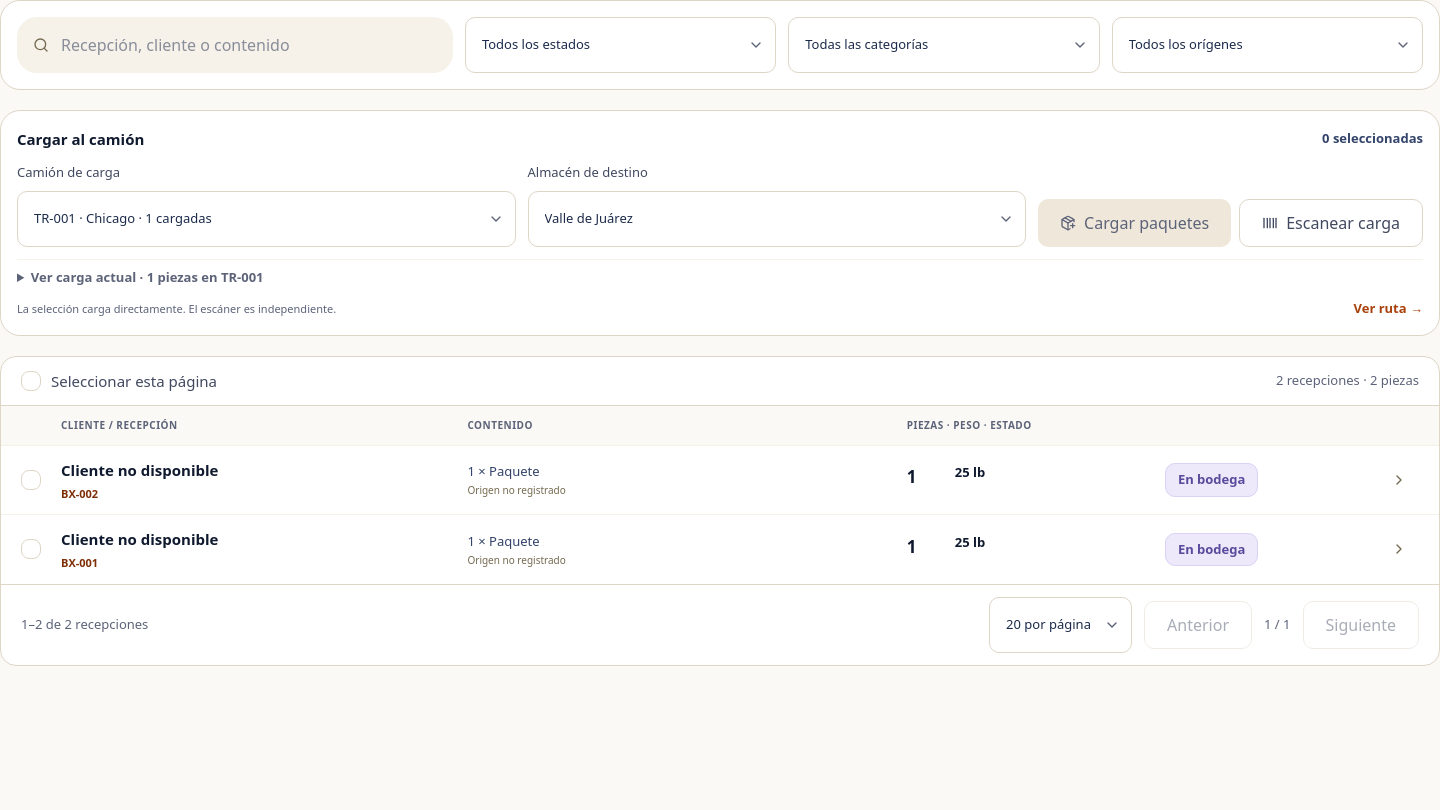
Test: preserves selection on a failed direct load
Click the checkbox named "Seleccionar BX-001" at (31, 549), box [21, 539, 41, 559]
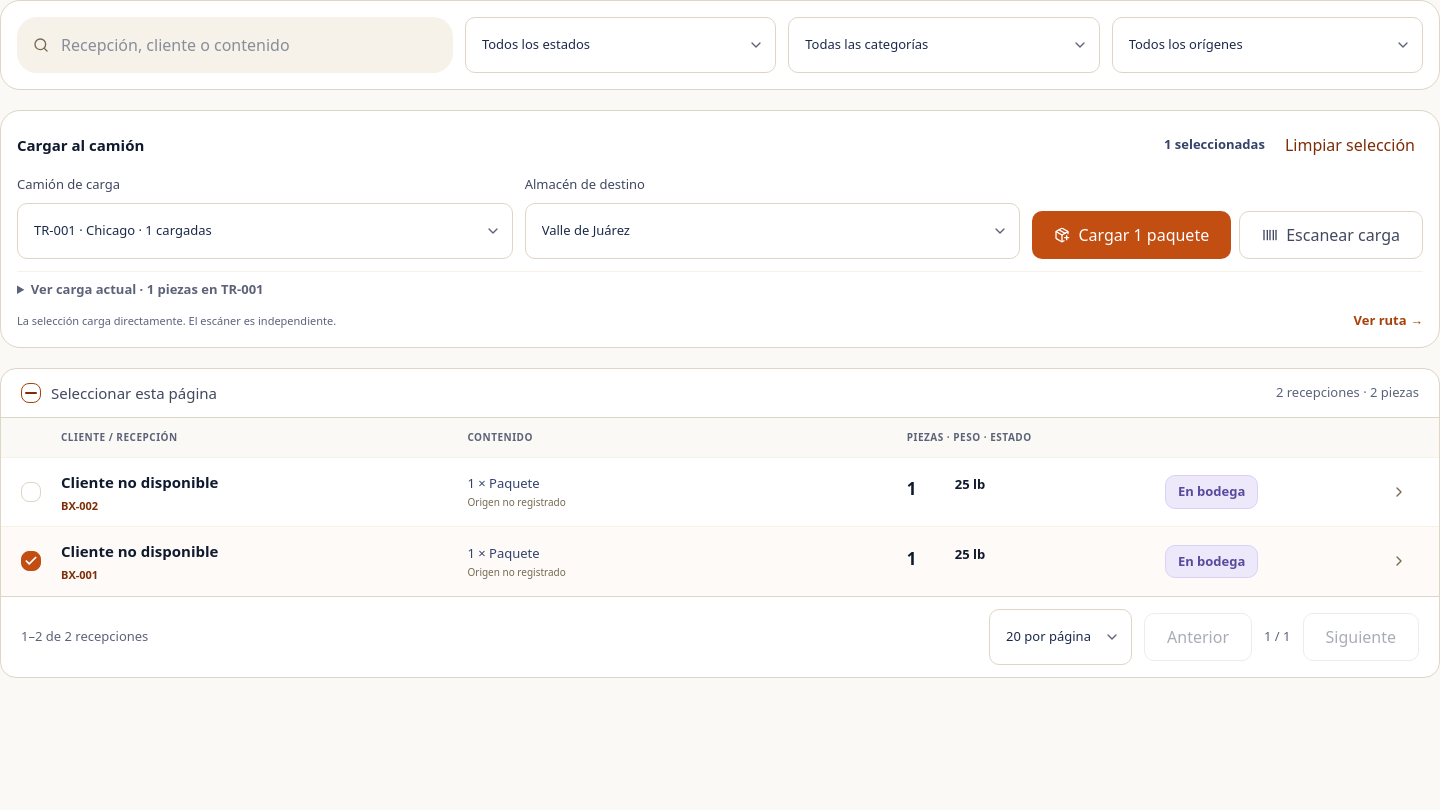
Click the button "Cargar 1 paquete" at (1132, 234), box [1032, 210, 1231, 258]
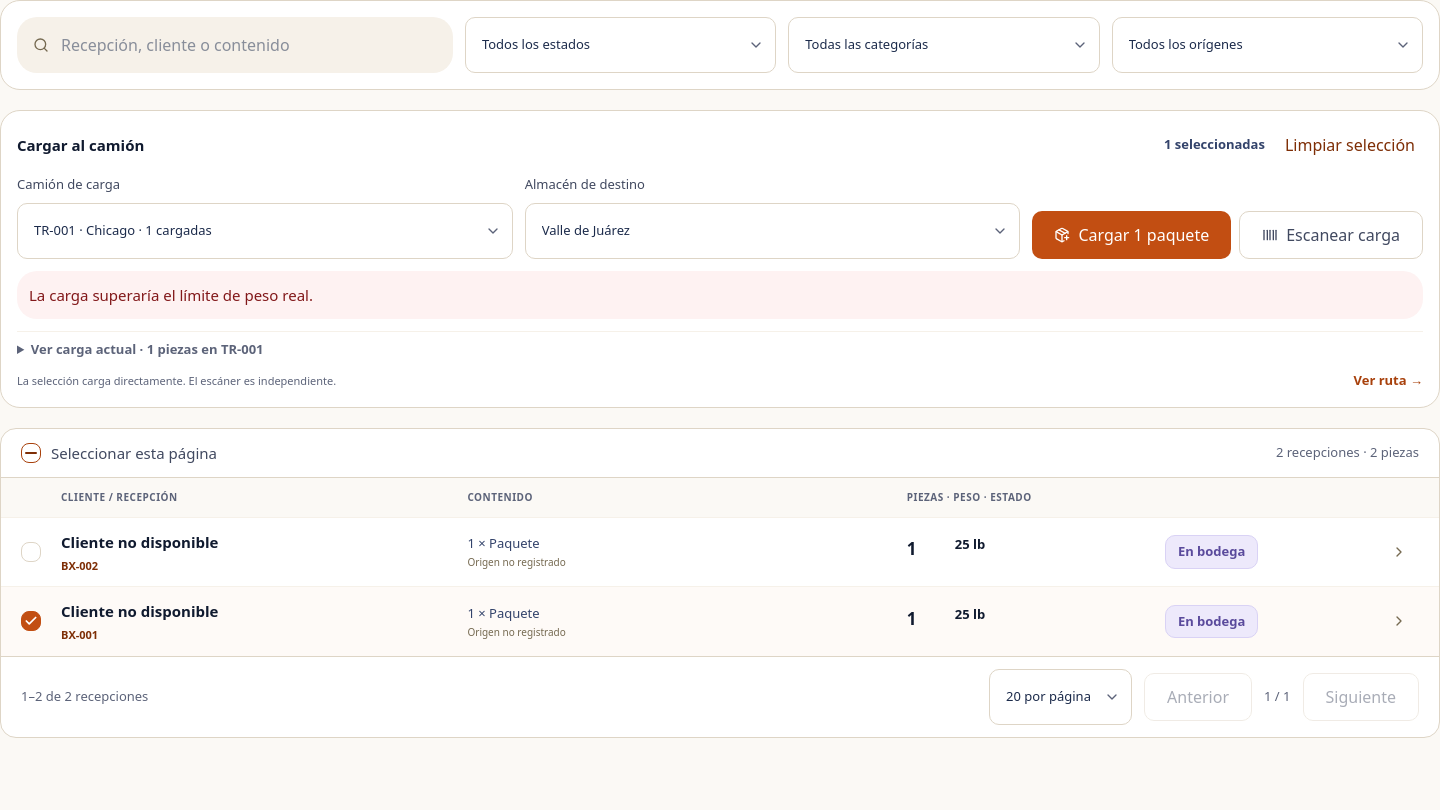
Now the checkbox named "Seleccionar BX-001" is checked, box [21, 611, 41, 631]
Now the message "La carga superaría el límite de peso real." is shown, box [17, 270, 1423, 318]
